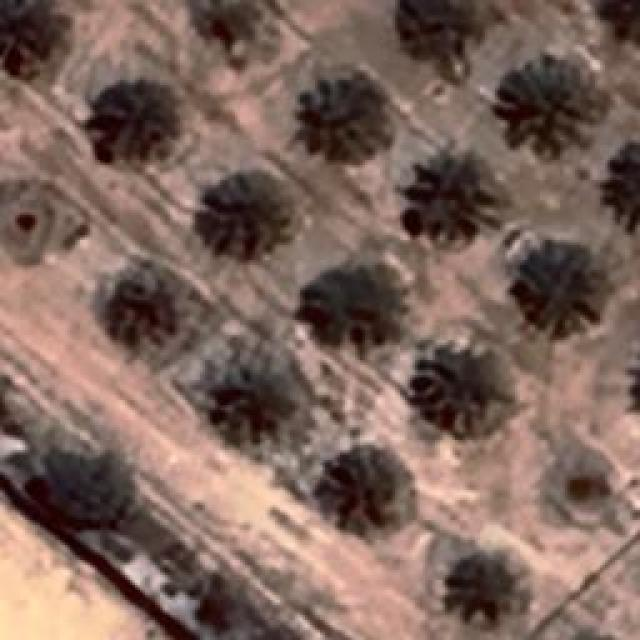PalmTree: (500, 54, 602, 158), (514, 245, 614, 335), (325, 446, 413, 542), (294, 72, 388, 160), (196, 170, 302, 248), (306, 268, 404, 340), (424, 341, 506, 424), (399, 0, 489, 75), (408, 158, 486, 238), (192, 0, 285, 64), (101, 95, 179, 165), (98, 266, 174, 336), (215, 358, 293, 422), (2, 2, 70, 70), (448, 552, 516, 618), (615, 136, 640, 236), (592, 0, 640, 48)
